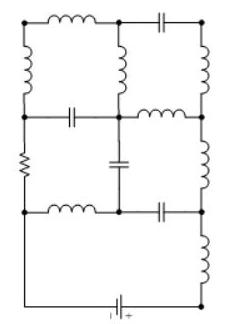Capacitor: (91, 141, 141, 176)
